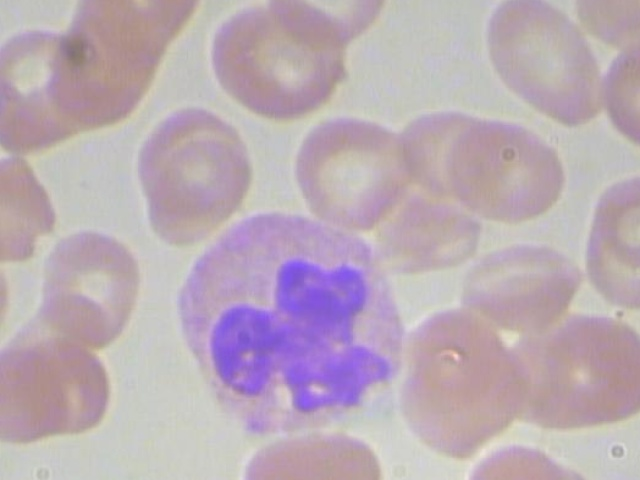RBC: (204, 0, 358, 124), (482, 0, 620, 134), (283, 112, 417, 236), (31, 222, 153, 354), (138, 130, 253, 248), (449, 116, 573, 224), (449, 238, 587, 329), (227, 428, 389, 480), (262, 0, 394, 50), (585, 173, 640, 282)
WBC: (167, 208, 416, 443)
